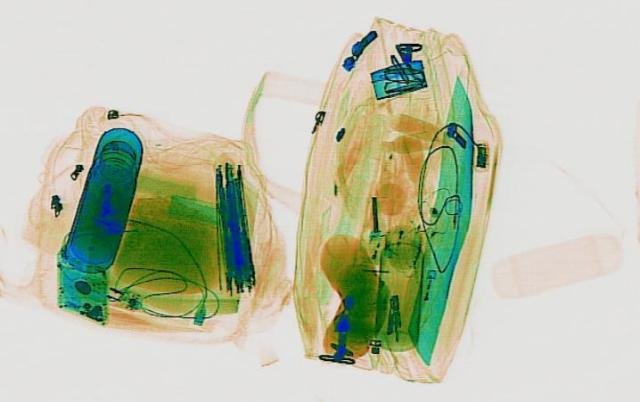Knife: (402, 74, 492, 362)
